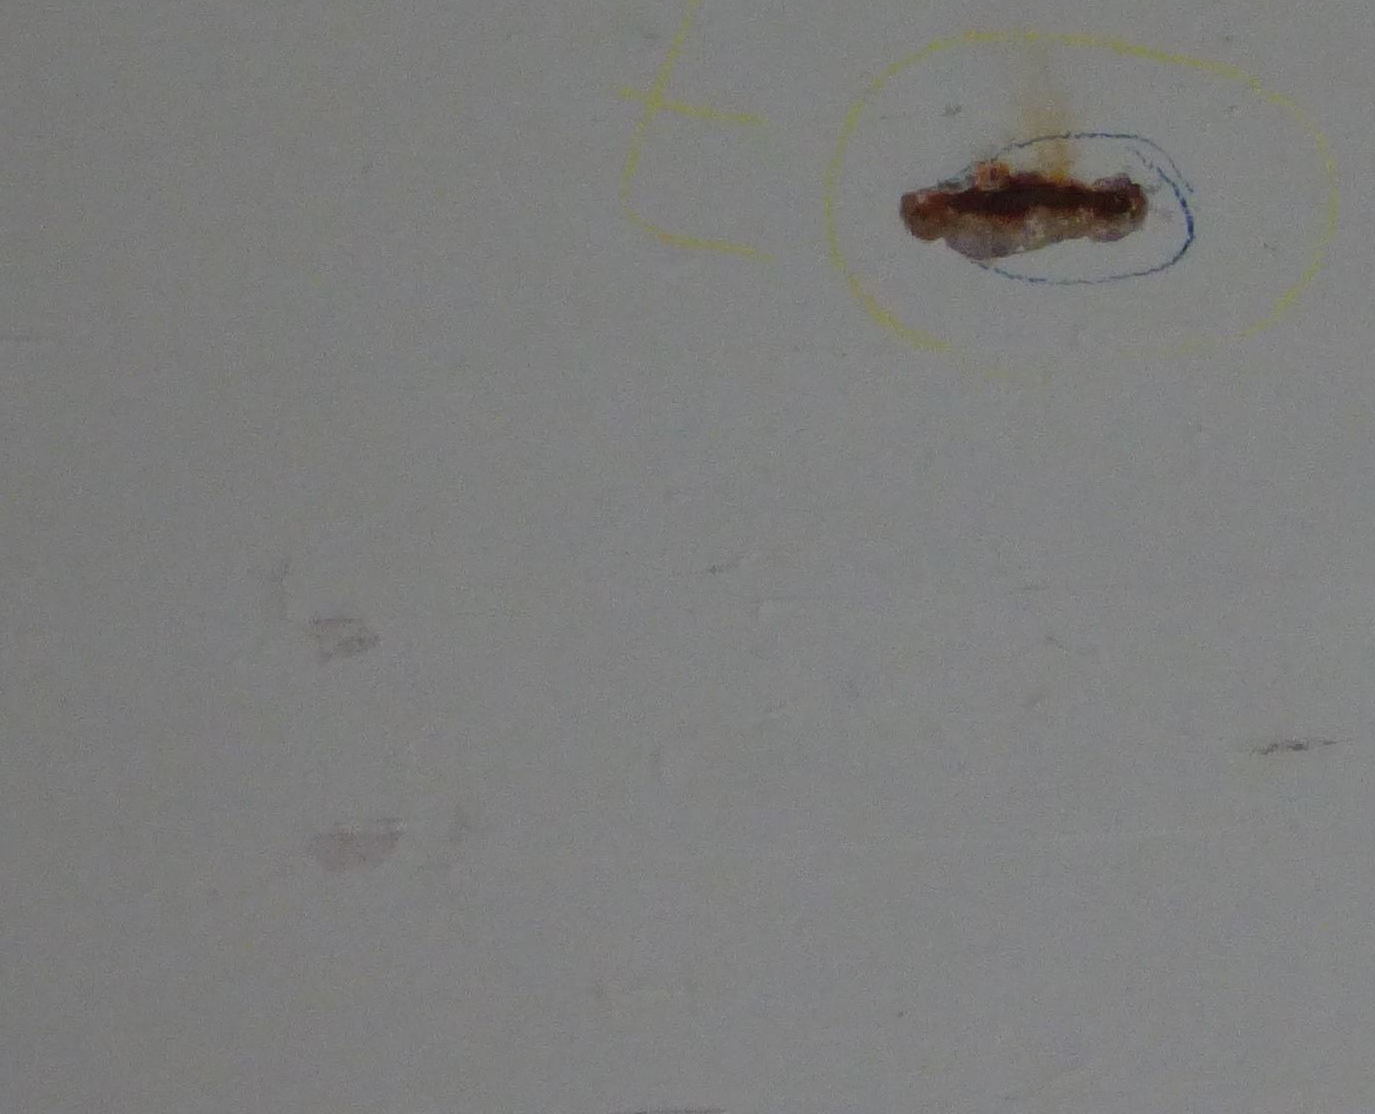Exposed reinforcement: (950, 186, 1132, 214)
Spalling: (900, 171, 1150, 261)
